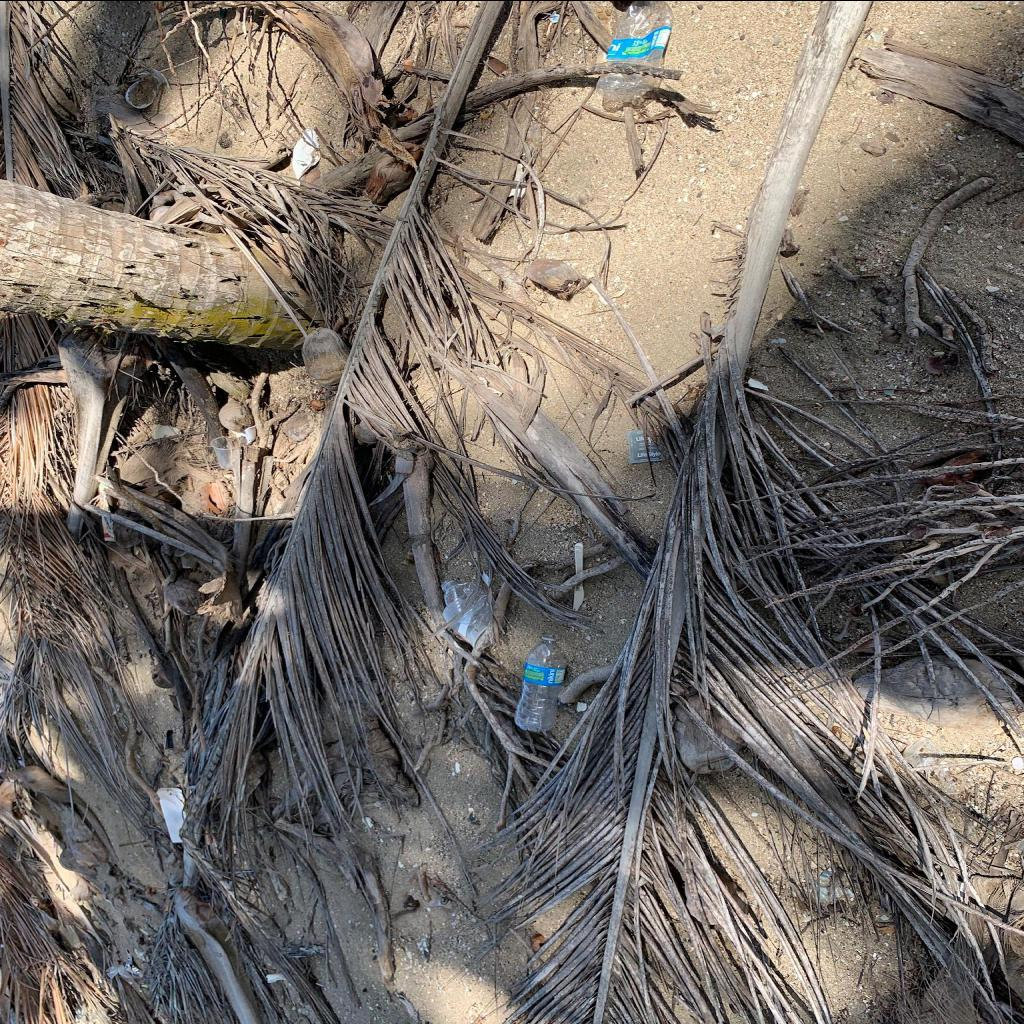Clear plastic bottle: (594, 0, 672, 102), (514, 633, 568, 730), (442, 579, 490, 625)
Disposable plastic cup: (443, 606, 489, 646), (212, 436, 238, 468)
Unlabeled litter: (155, 788, 185, 842), (291, 130, 321, 178), (624, 429, 664, 463), (107, 954, 145, 978), (100, 492, 114, 540)
